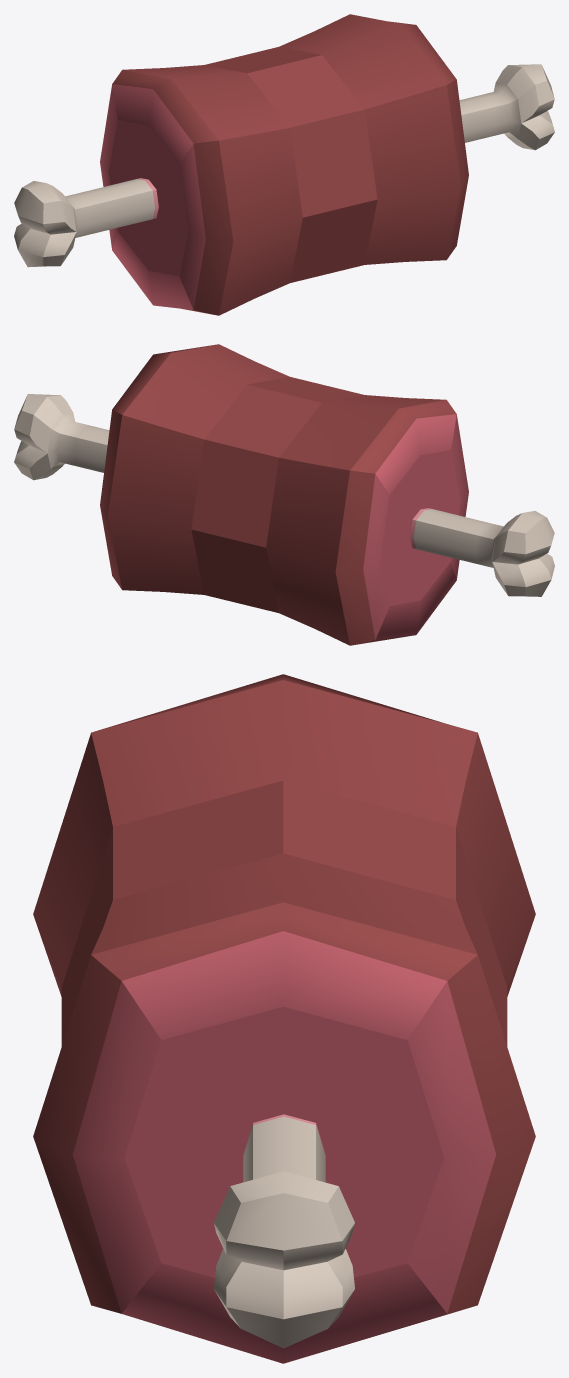
Rendered from maya2sketchfab.fbx.
The picture shows the model from 3 angles, top to bottom: view 1: azimuth 30°, elevation 25°; view 2: azimuth 150°, elevation 25°; view 3: azimuth 270°, elevation 25°; orthographic projection. The views are drawn at different scales.
Parts seen in each view (by area): view 1: pCube2; view 2: pCube2; view 3: pCube2.
Part boxes in pixels (x1,y1,x2,y2): pCube2: [14, 14, 554, 315]; pCube2: [14, 344, 554, 645]; pCube2: [33, 674, 535, 1363].
Bounding box in the file's own units: 16.26 × 6.64 × 6.64.
